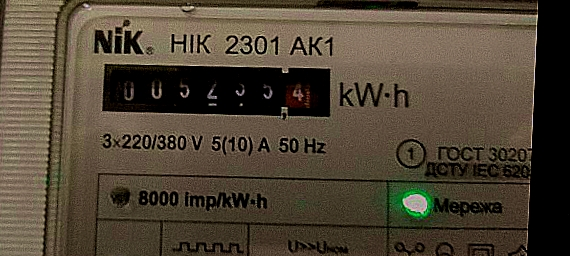0: (120, 76, 136, 102), (148, 75, 164, 100)
2: (203, 74, 220, 101)
3: (230, 72, 248, 98)
4: (288, 75, 307, 104)
5: (258, 72, 275, 101), (176, 74, 191, 99)
screen: (88, 47, 341, 130)
